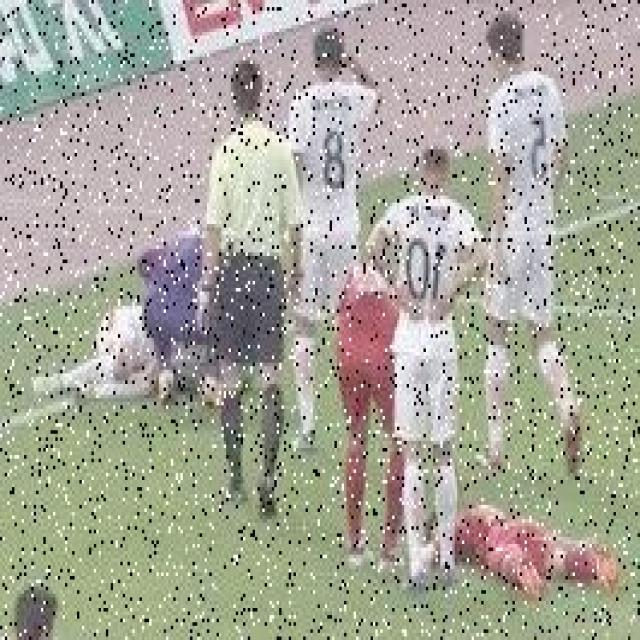fall: (433, 480, 618, 601)
